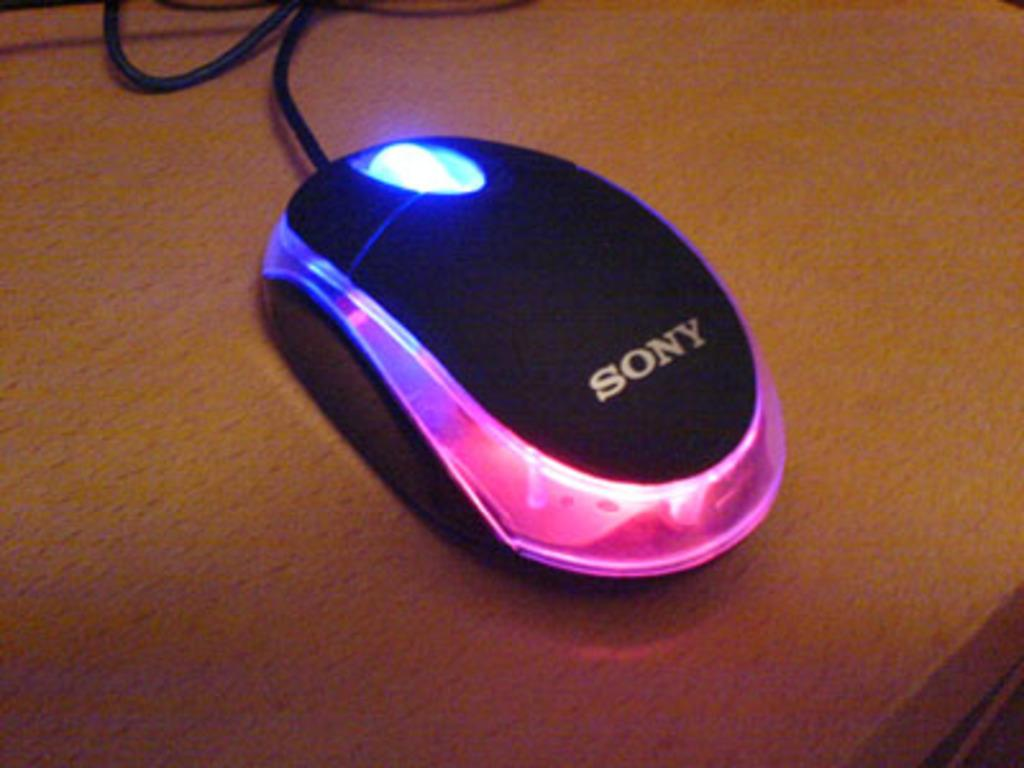Computer-mouse: (253, 131, 788, 579)
